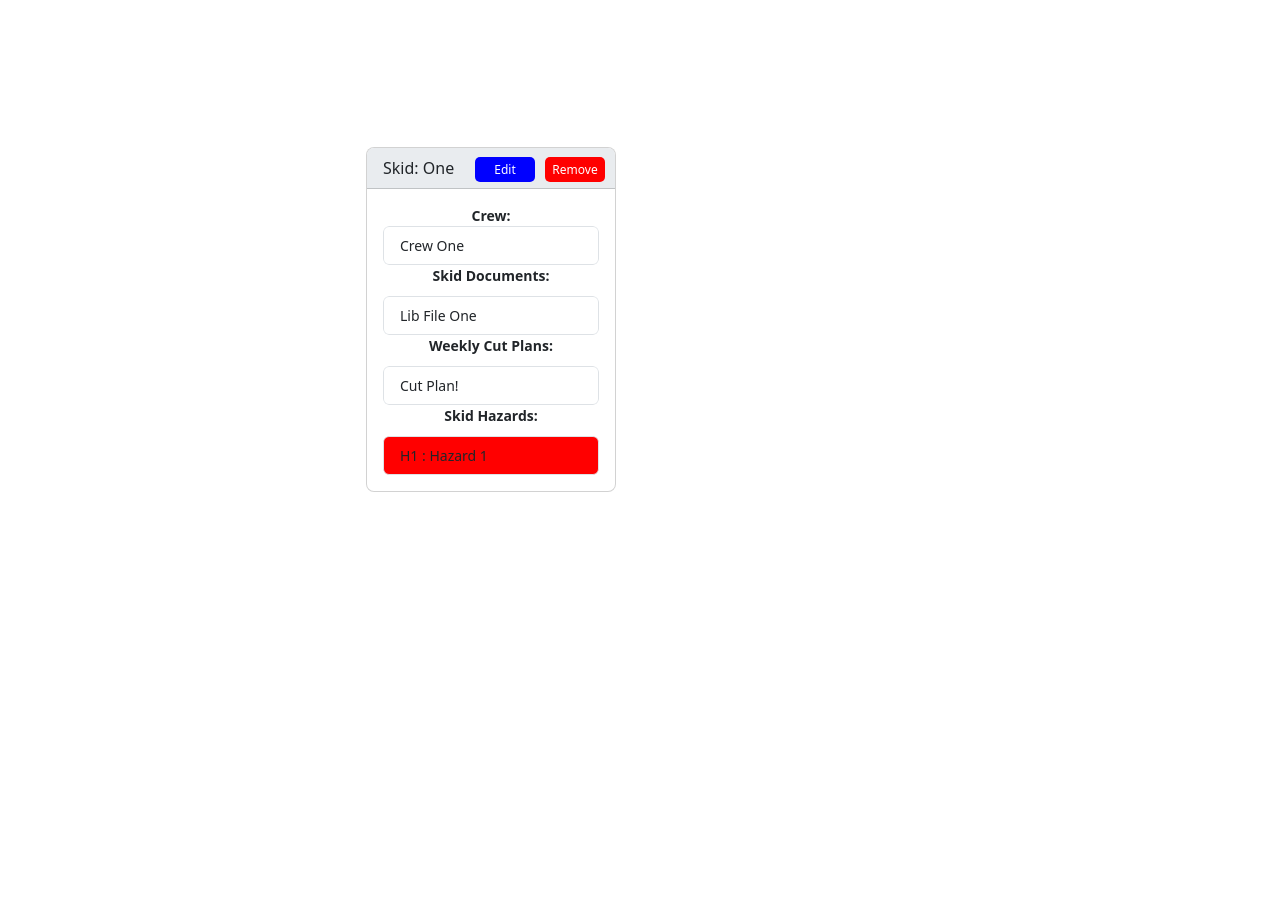
SkidMarkerPopover › opens the hazard modal when a hazard is clicked
The image size is (1280, 900).
Step 1. Click the list item with test id "skid-hazard-0" → point(491, 456), box [383,436,599,475]
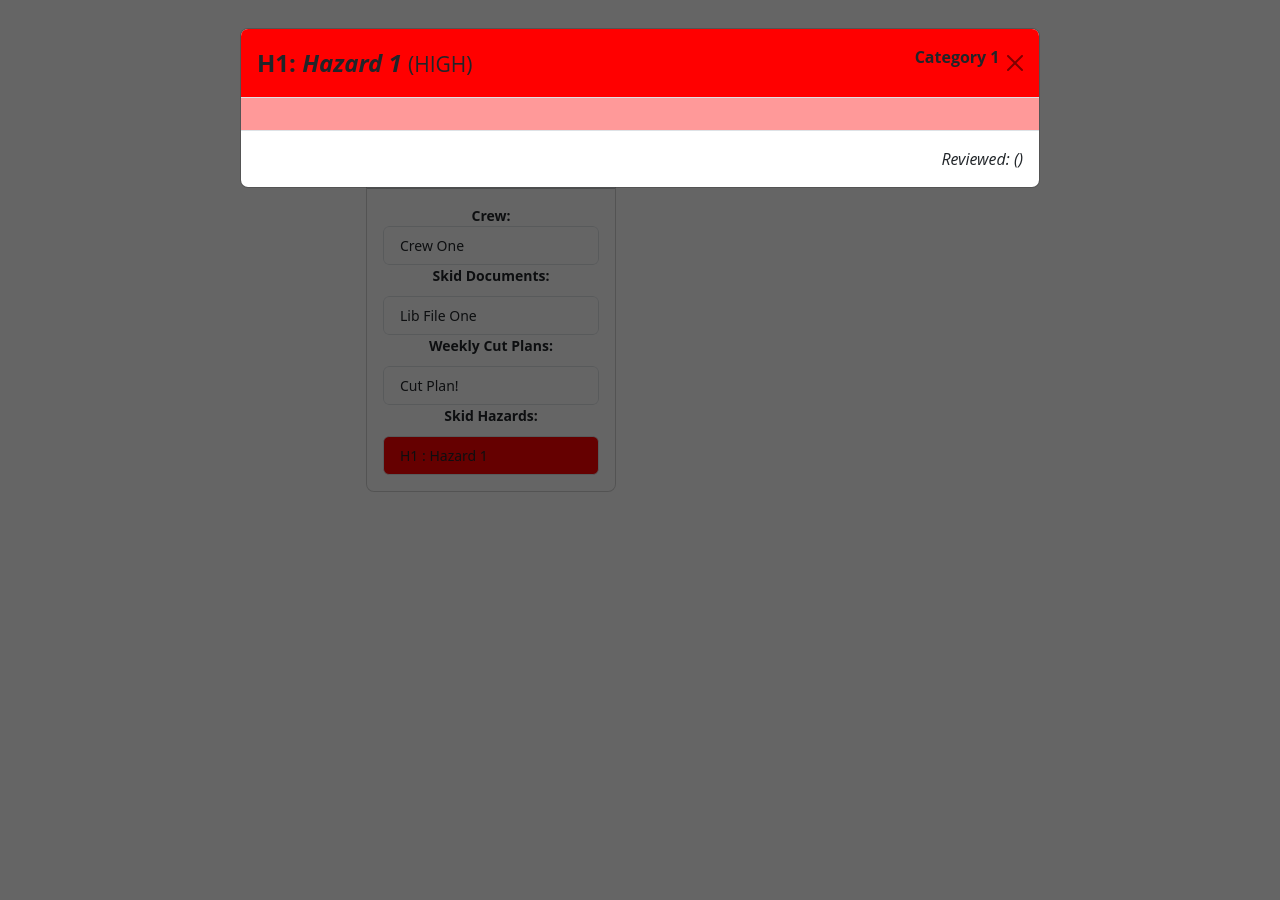
Expected: the dialog is shown
